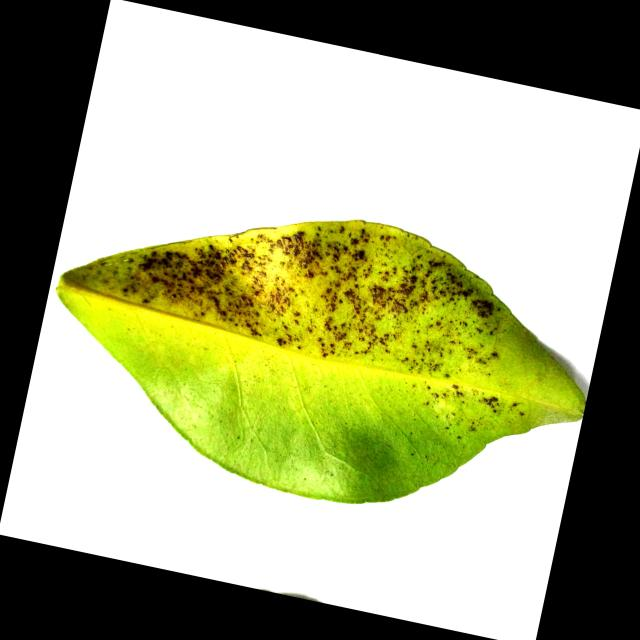melanose: (58, 220, 585, 503)
